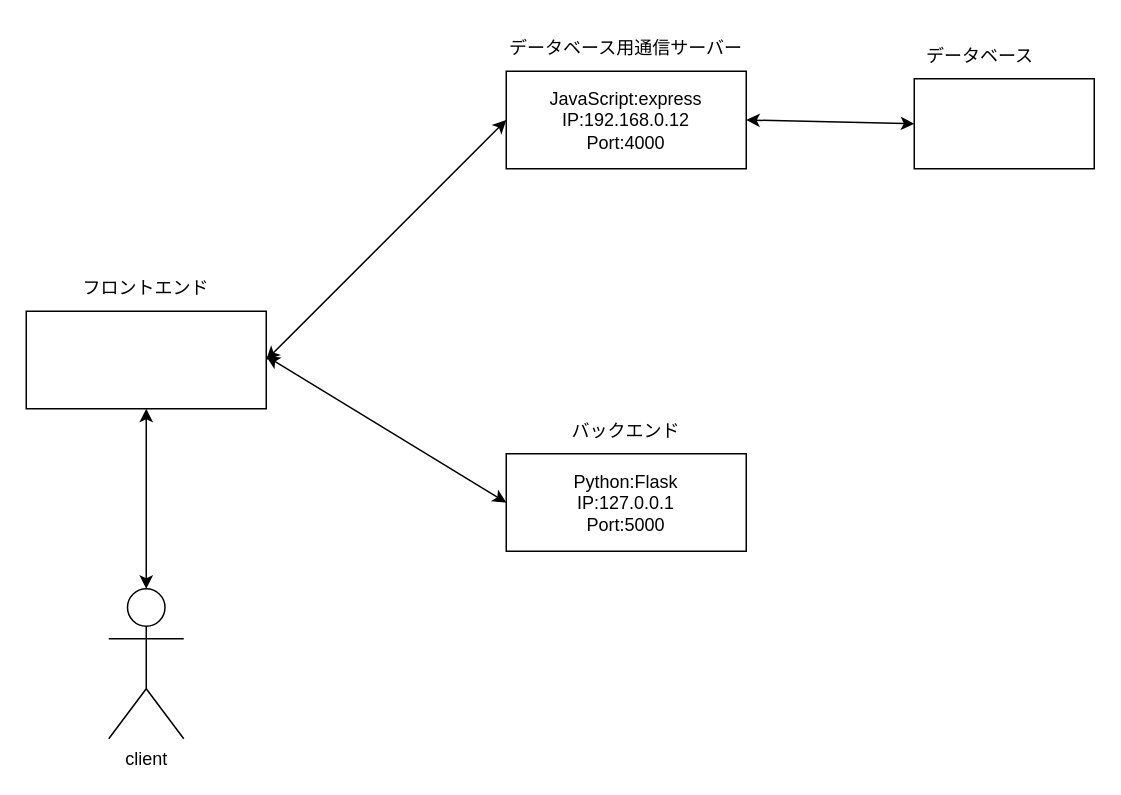
Some shapes in this 1121 by 795 pixel diagram are drawn without their labels. The centre of each missing label's shape, as x and y in pixels:
"JavaScript:React IP:192.168.0.12 Port:3 000" goes at (x=145, y=359).
"MySQL IP:? Port:3307" goes at (x=1003, y=123).
